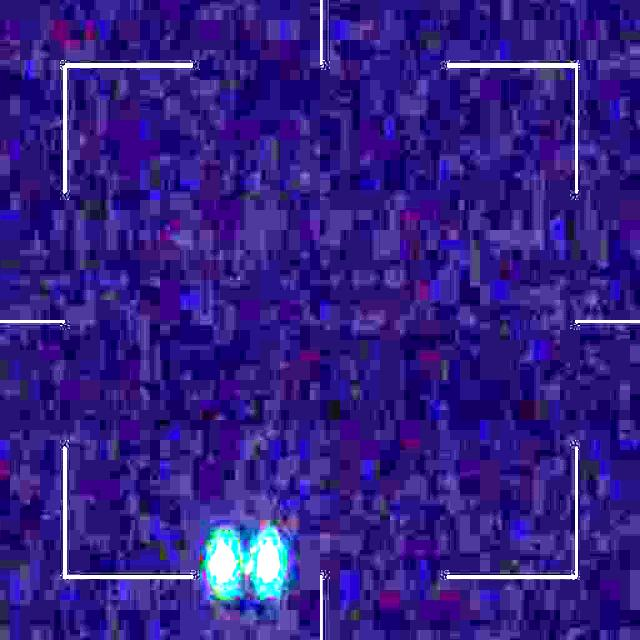bird: (210, 536, 281, 584)
